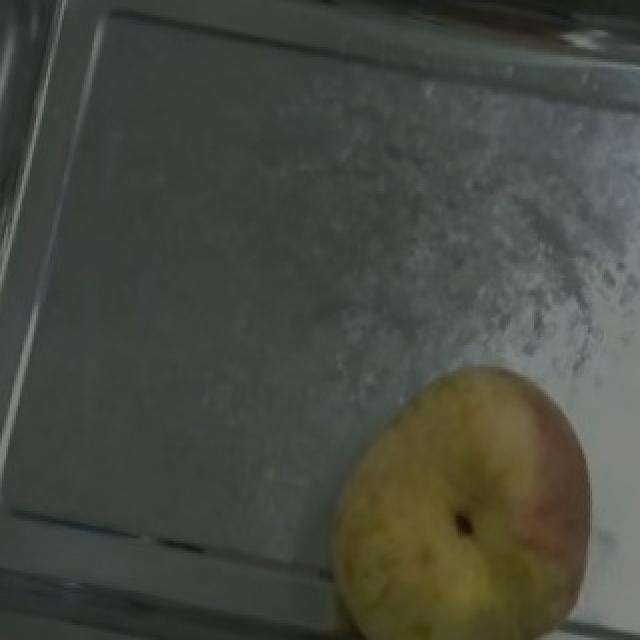Fruit: (294, 340, 626, 640)
